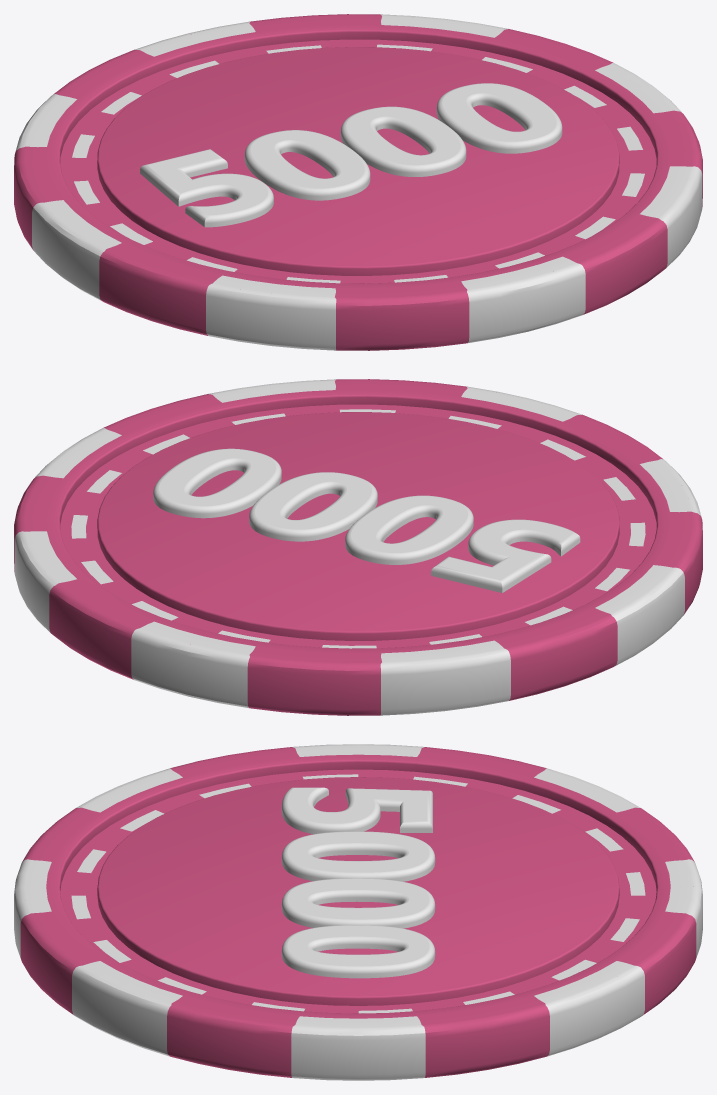
The picture shows the model from 3 angles, top to bottom: view 1: azimuth 30°, elevation 25°; view 2: azimuth 150°, elevation 25°; view 3: azimuth 270°, elevation 25°; orthographic projection.
Parts seen in each view (by area): view 1: Chip; view 2: Chip; view 3: Chip.
Boxes of the visible parts, box(x1,y1,x2,y2) form: Chip: box(14, 14, 702, 350); Chip: box(14, 379, 702, 715); Chip: box(14, 744, 702, 1080).
Bounding box in the file's own units: 8.02 × 0.9115 × 8.02.
